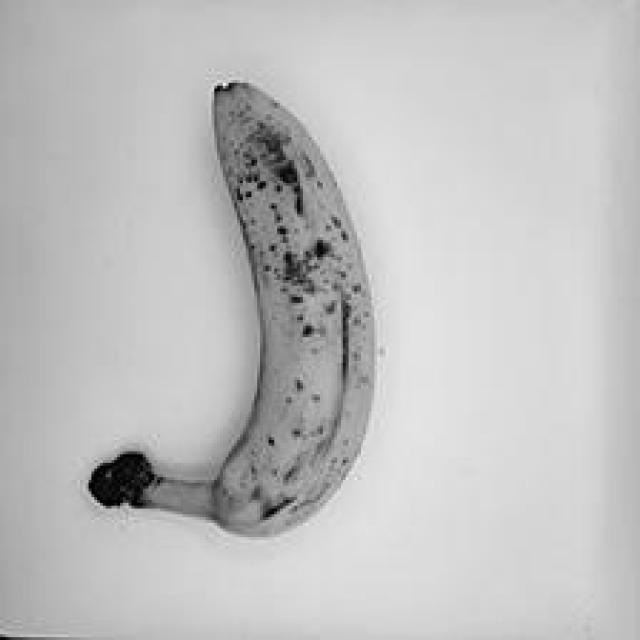Overripe: (57, 65, 445, 557)
